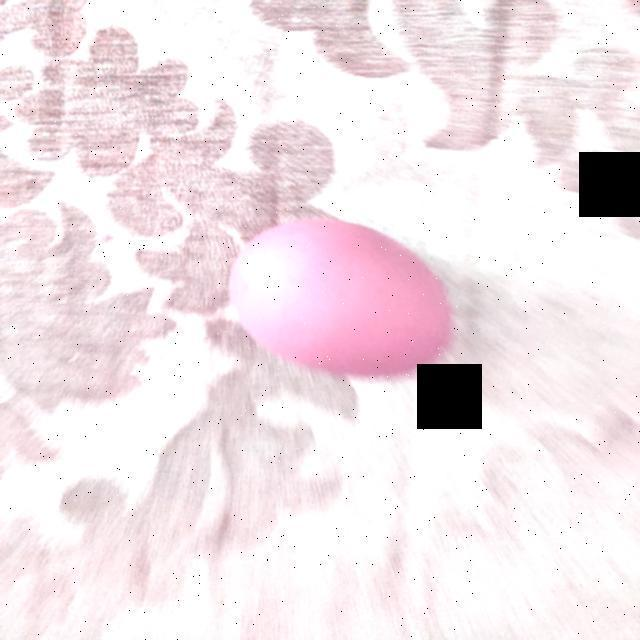egg: (228, 216, 454, 382)
